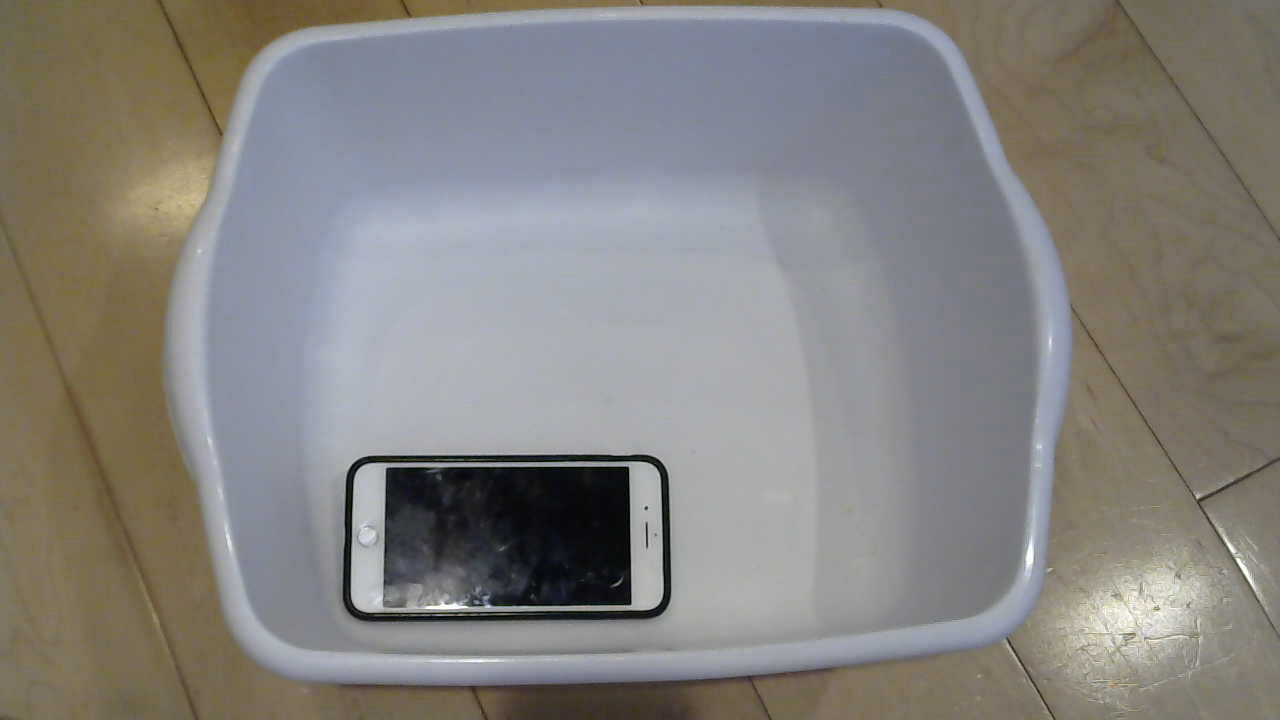phone: (343, 459, 668, 630)
